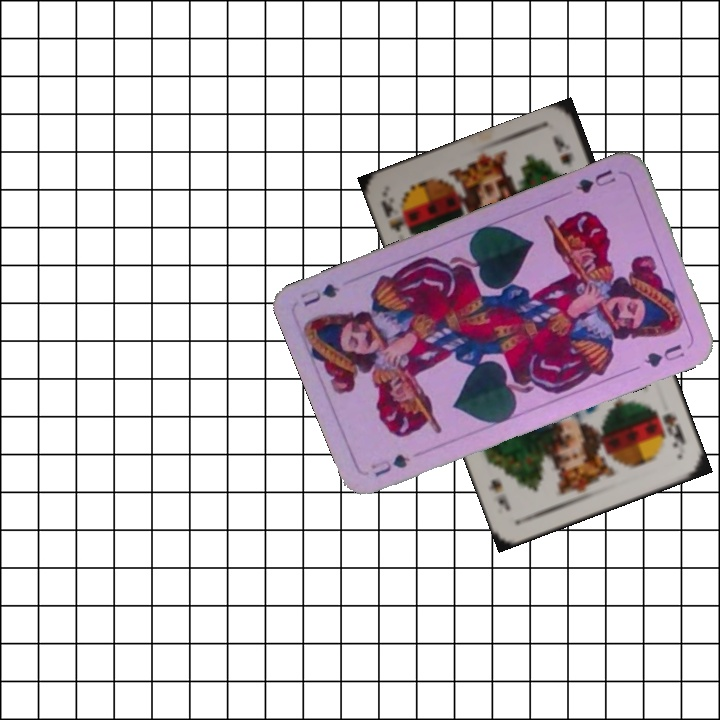GU: (571, 165, 619, 196), (366, 450, 413, 479)
SK: (377, 196, 415, 238), (658, 409, 689, 450)
